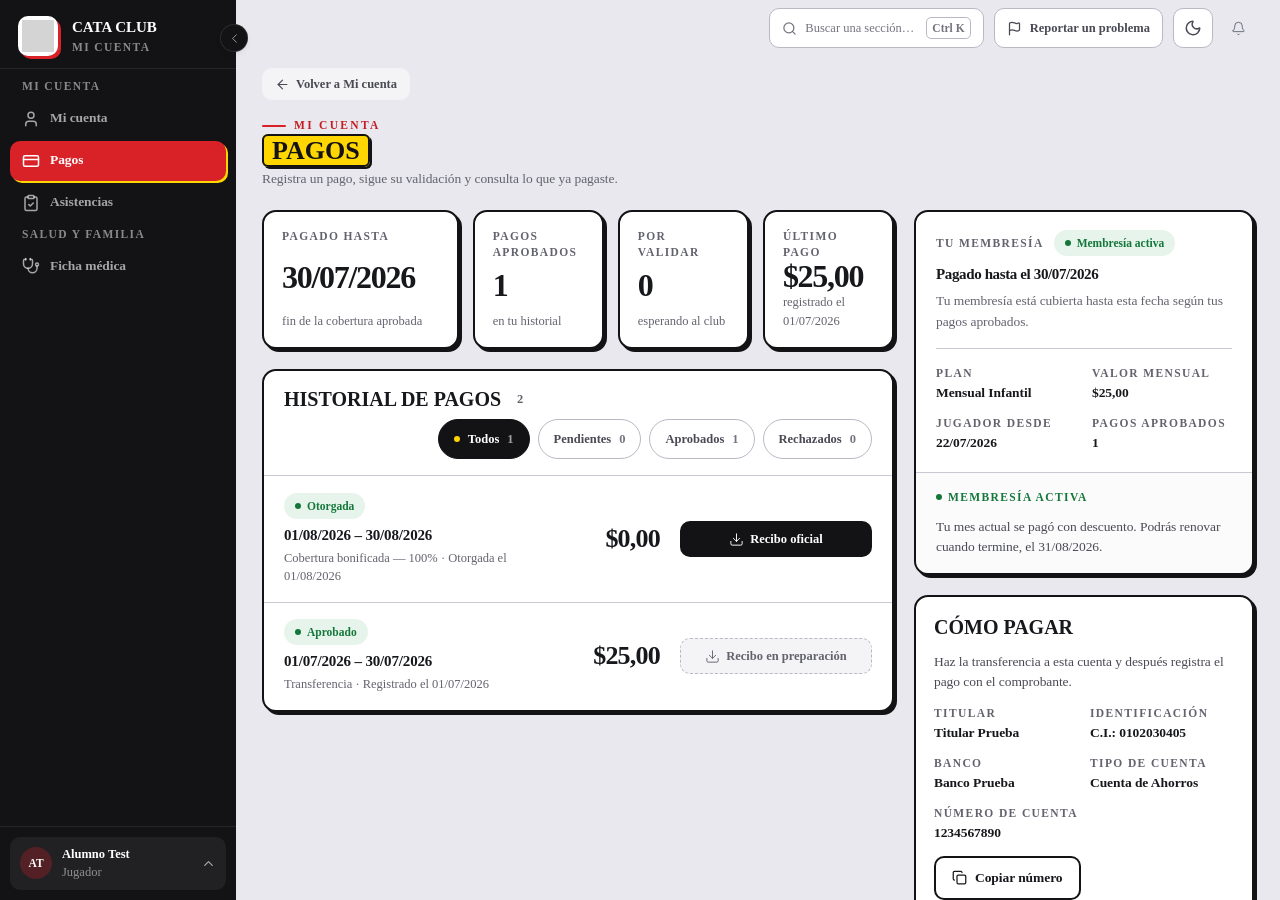
Test case: StudentPaymentsPage — the merged coverage rows (issue #1369) › keeps cobertura rows out of payment-status filters — they have no payment status
Expected: the list with test id "student-payments-table" is shown, x1=264 y1=475 x2=892 y2=710
Click the button "Aprobados 1" at [702, 439], box x1=650 y1=419 x2=755 y2=459
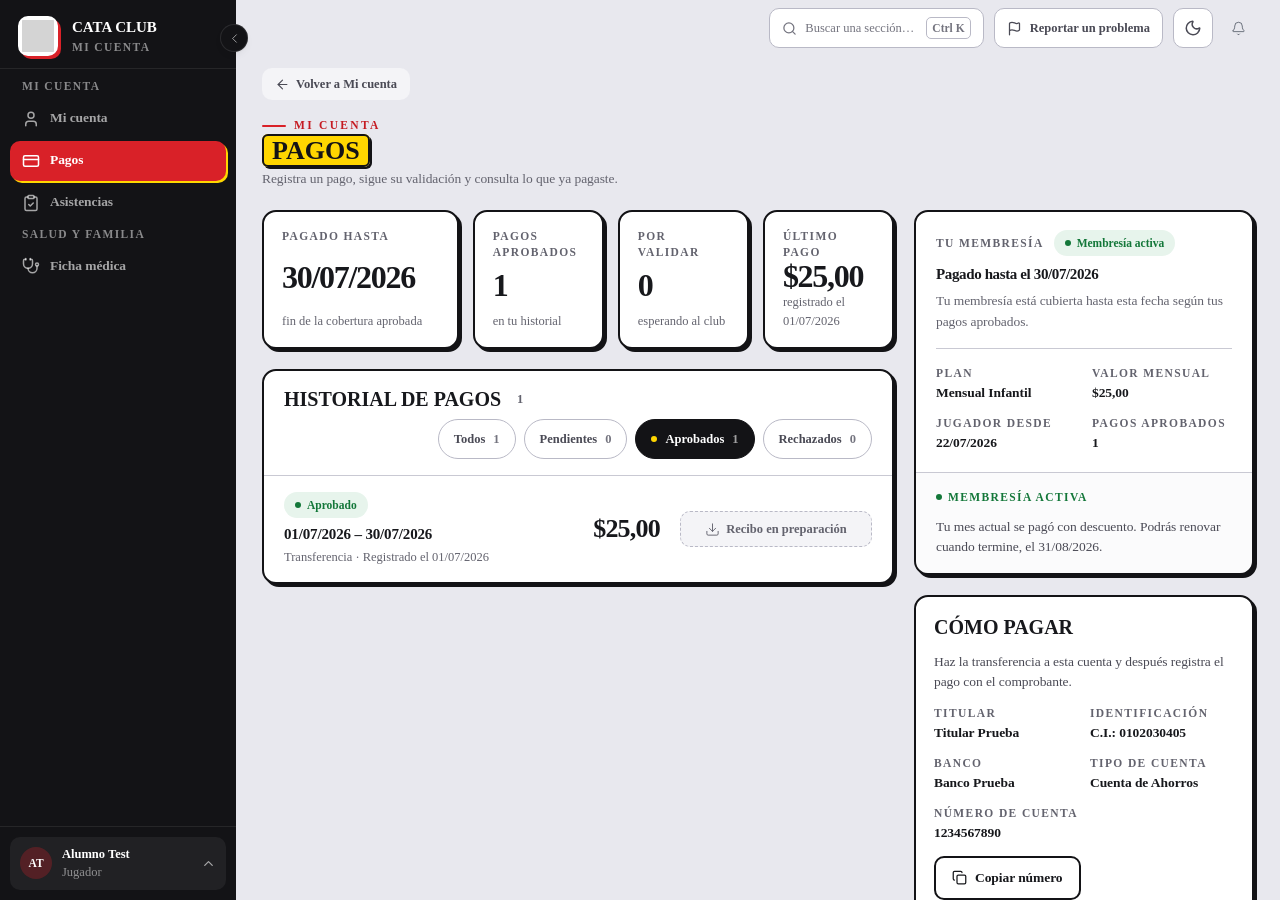
Now the text "Cobertura bonificada — 100%" is gone
